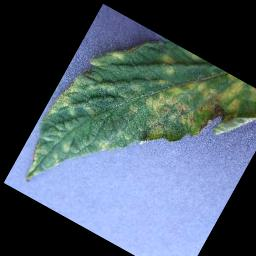Leaf_Mold: (127, 45, 256, 191), (44, 67, 88, 127)
